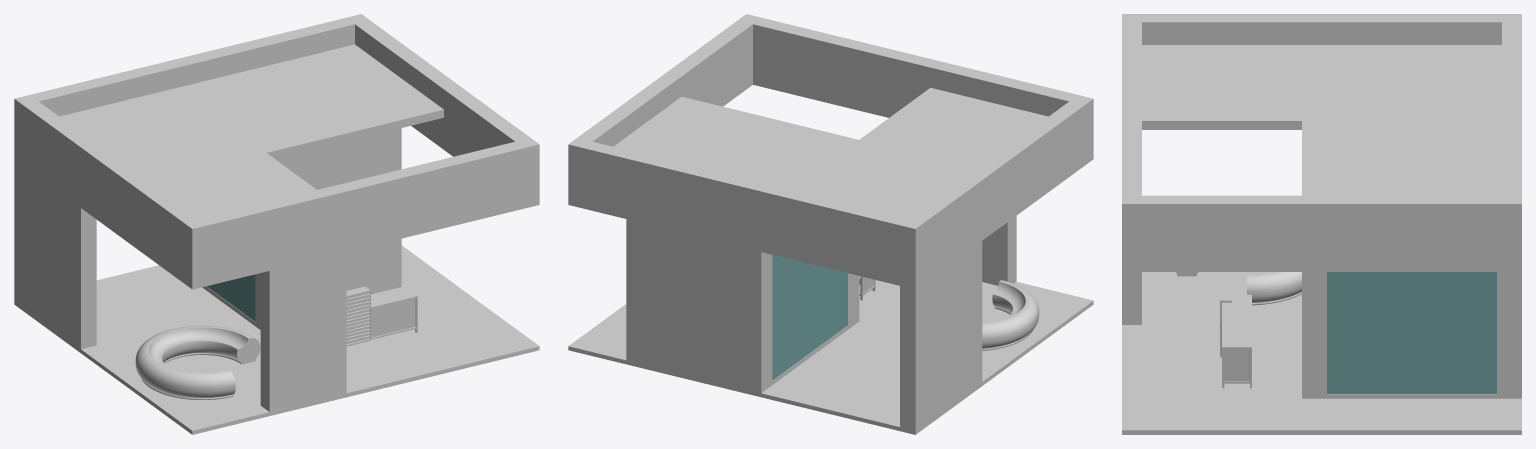
Rendered from expoBooth3.glb.
The picture shows the model from 3 angles, left to right: view 1: azimuth 30°, elevation 25°; view 2: azimuth 150°, elevation 25°; view 3: azimuth 270°, elevation 25°; orthographic projection. The views are drawn at different scales.
Visible parts, largest first — view 1: ExpoBooth; view 2: ExpoBooth; view 3: ExpoBooth.
Part boxes in pixels (<box>): ExpoBooth: <box>14,14,539,434</box>; ExpoBooth: <box>568,14,1093,434</box>; ExpoBooth: <box>1122,14,1521,434</box>.
Bounding box in the file's own units: 0.09 × 0.051 × 0.08.
